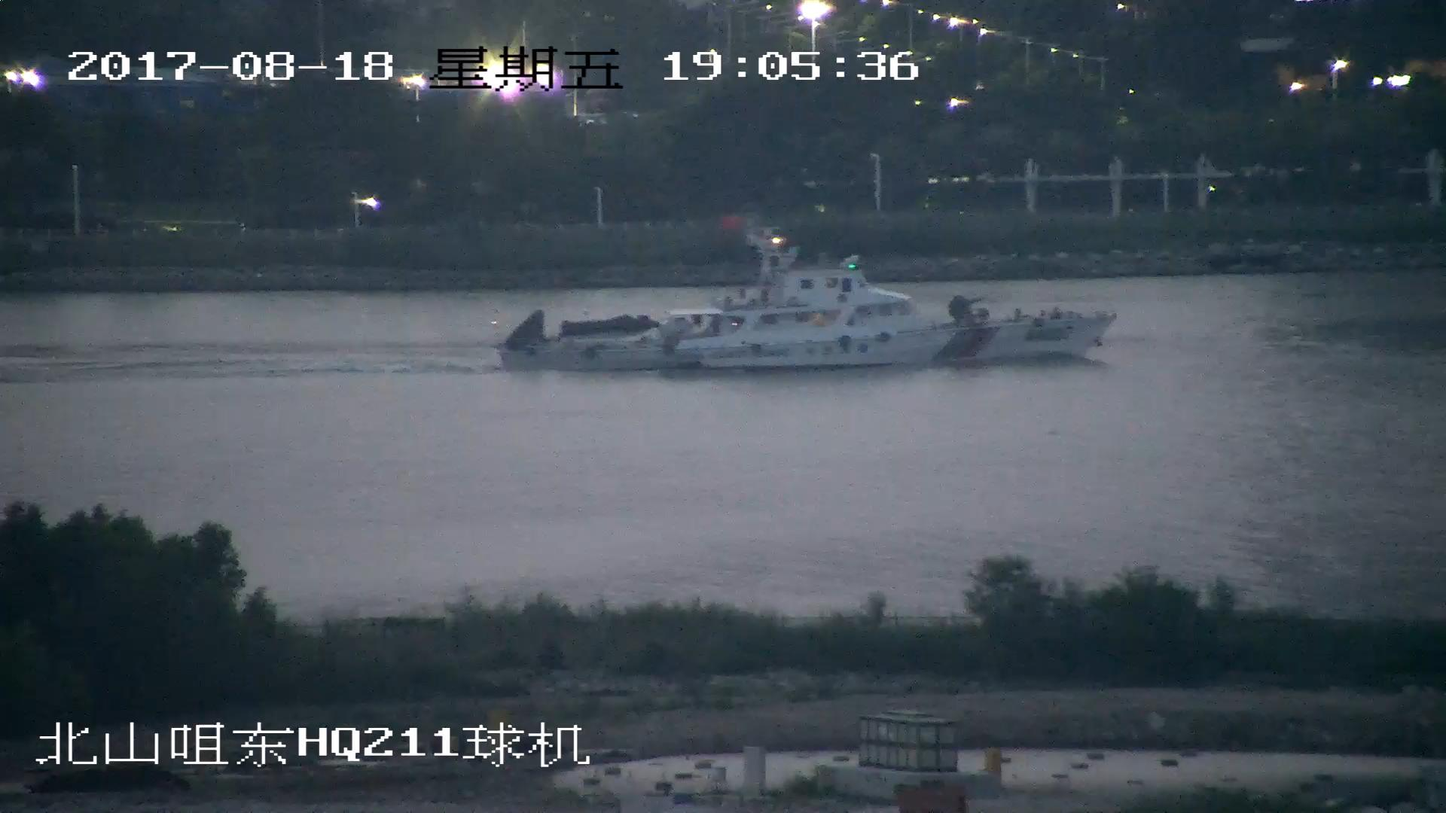passenger ship: (496, 234, 1115, 371)
